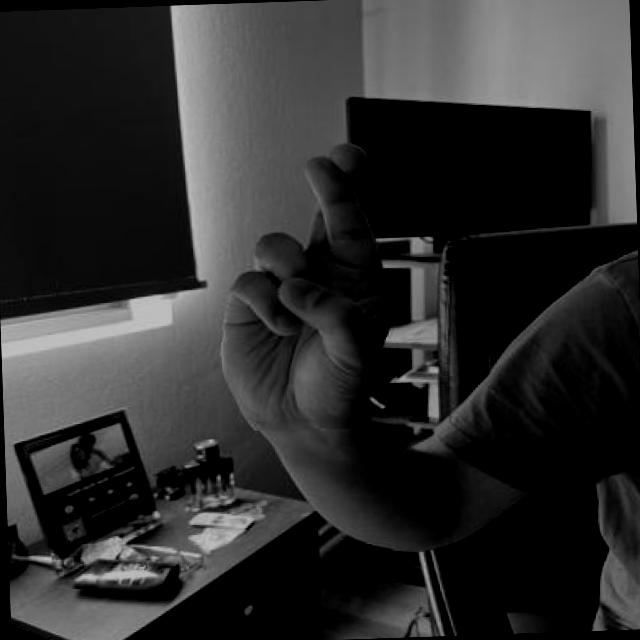R: (212, 134, 404, 432)
